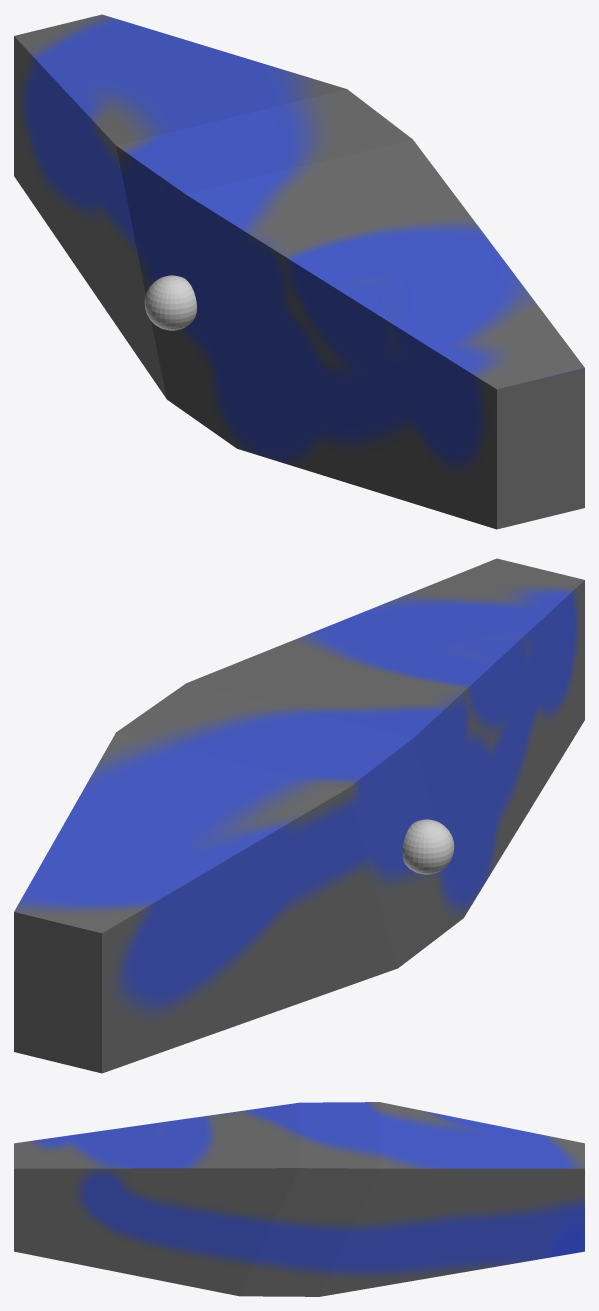
The model's file is aircraft.obj.
3 views of the same model, one above another, from view 1: azimuth 30°, elevation 25°; view 2: azimuth 150°, elevation 25°; view 3: azimuth 270°, elevation 25° (orthographic). The views are drawn at different scales.
Visible parts, largest first — view 1: Cube, Gunpoint_01_Sphere; view 2: Cube, Gunpoint_01_Sphere; view 3: Cube.
Boxes of the visible parts, box(x1,y1,x2,y2) form: Cube: box(14, 14, 584, 529); Gunpoint_01_Sphere: box(144, 275, 196, 330); Cube: box(14, 558, 584, 1073); Gunpoint_01_Sphere: box(402, 819, 454, 874); Cube: box(14, 1102, 584, 1296).
Bounding box in the file's own units: 2.35 × 1.83 × 7.38.
2 materials, 1 textured.
